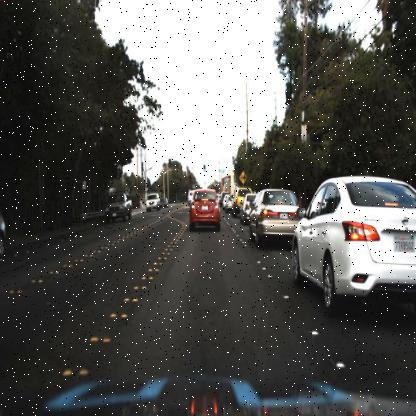car: (291, 157, 415, 321), (247, 186, 296, 250), (185, 186, 223, 236), (104, 188, 131, 222), (141, 190, 162, 216), (239, 193, 254, 229), (231, 186, 243, 219)
